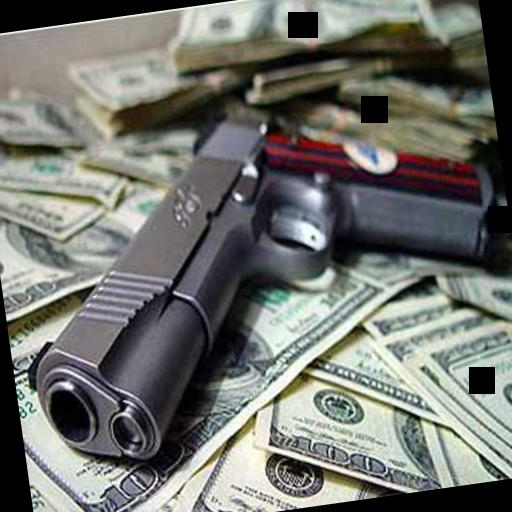Handgun: (0, 75, 512, 465)
